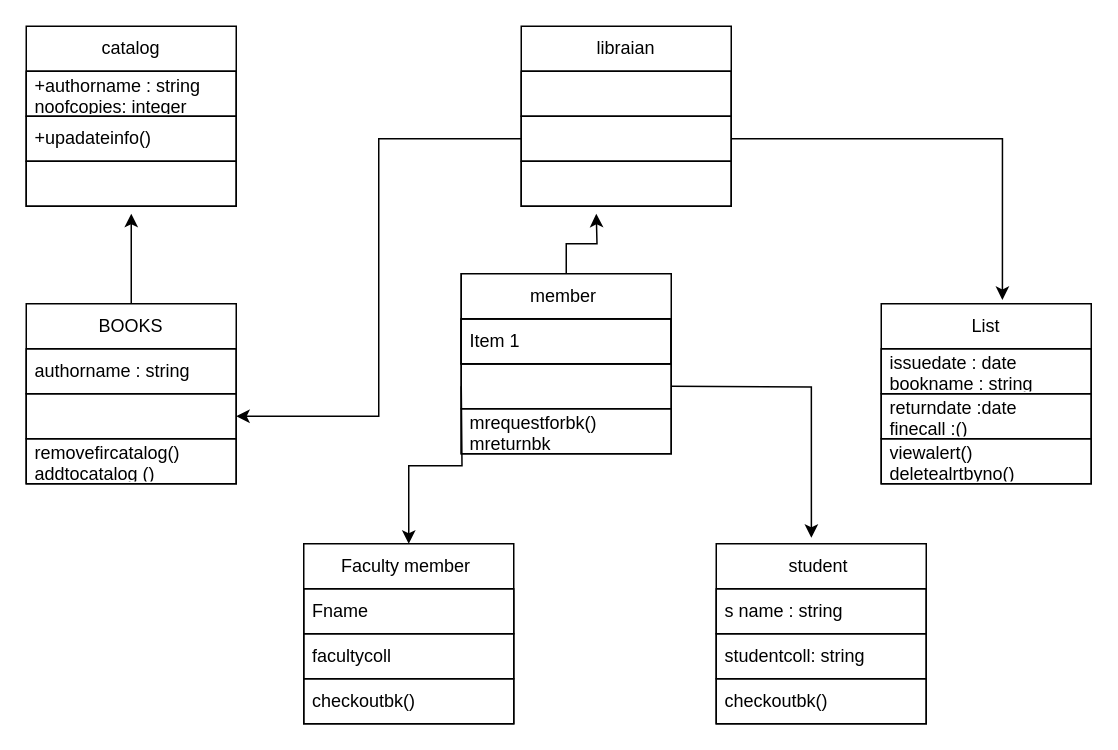
Some shapes in this 1118 by 750 pixel diagram are drawn without their labels. The centre of each missing label's shape, as x and y in pixels:
+searching: the point at 130,183
Mname: string Maddress: string: the point at 565,340
Mno: int: the point at 565,385
mobileno : int: the point at 625,138
name: string address : string: the point at 625,93
noofbooks : int: the point at 130,415
updateinfo() issuebooks(): the point at 625,183
